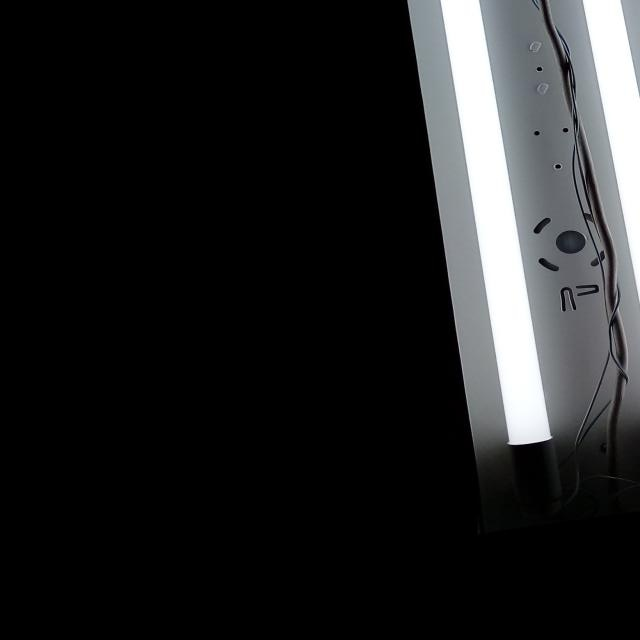fluorescent tube: (283, 0, 640, 496)
